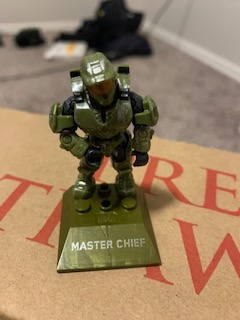chief: (48, 50, 160, 198)
spartan: (46, 48, 158, 196)
